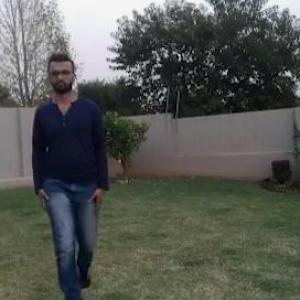follow: (33, 50, 107, 299)
